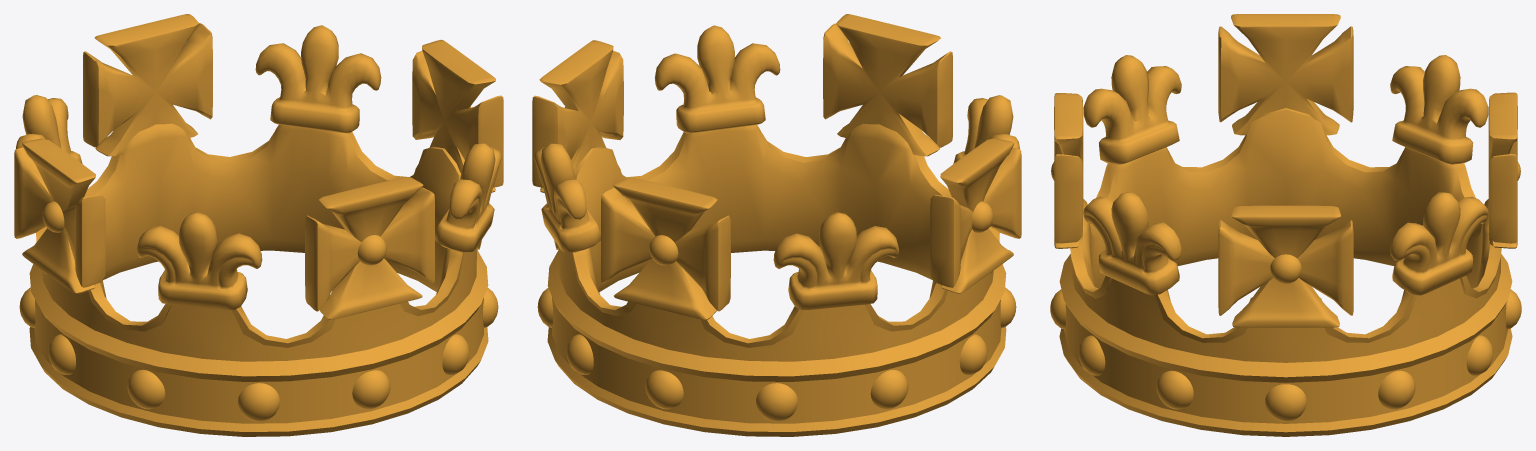
The model's file is kings_crown.glb.
3 renders of one model, left to right at view 1: azimuth 30°, elevation 25°; view 2: azimuth 150°, elevation 25°; view 3: azimuth 270°, elevation 25°, orthographic.
Visible parts, largest first — view 1: Object_2, Object_3; view 2: Object_2, Object_3; view 3: Object_2, Object_3.
Part boxes in pixels (left/top/right/bottom): Object_2: left=14, top=14, right=503, bottom=436; Object_3: left=19, top=287, right=498, bottom=421; Object_2: left=532, top=14, right=1021, bottom=436; Object_3: left=537, top=287, right=1016, bottom=421; Object_2: left=1051, top=14, right=1520, bottom=436; Object_3: left=1050, top=289, right=1521, bottom=421.
Bounding box in the file's own units: 0.5107 × 0.2636 × 0.4945.
